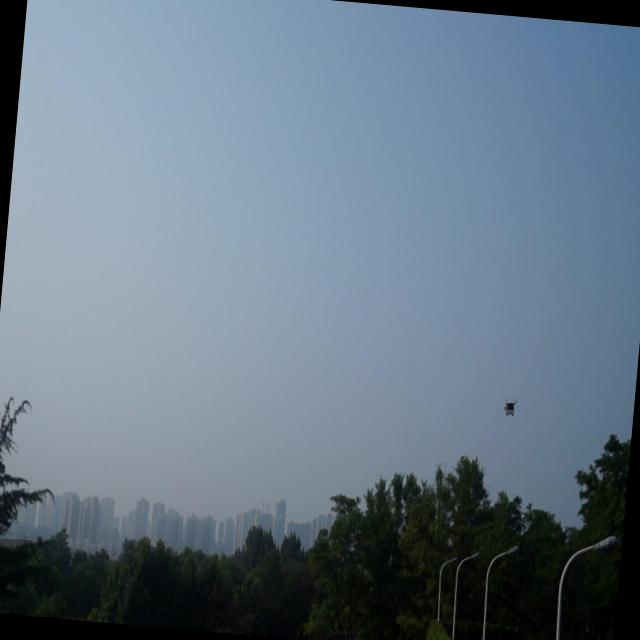drone: (499, 390, 518, 426)
